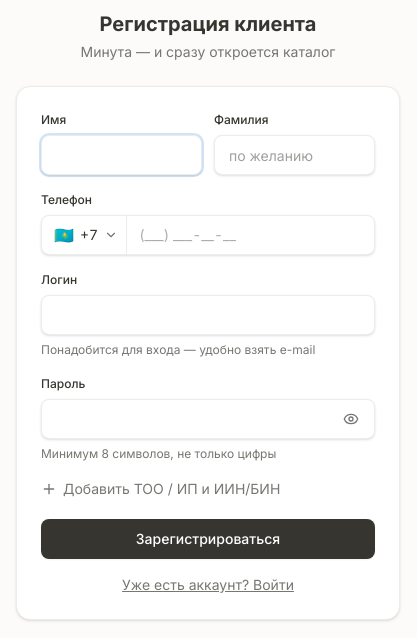
Test: RegisterPage › показывает ошибку сервера под нужным полем
This screenshot has width=417, height=638.
In the field labelled "Имя": (122, 155) 41,135 -> 202,175, type "Бахредин"
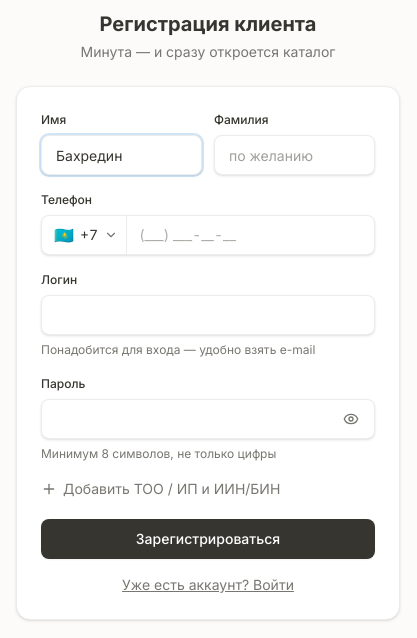
In the field labelled "Телефон": (251, 235) 127,216 -> 374,254, type "7055656565"
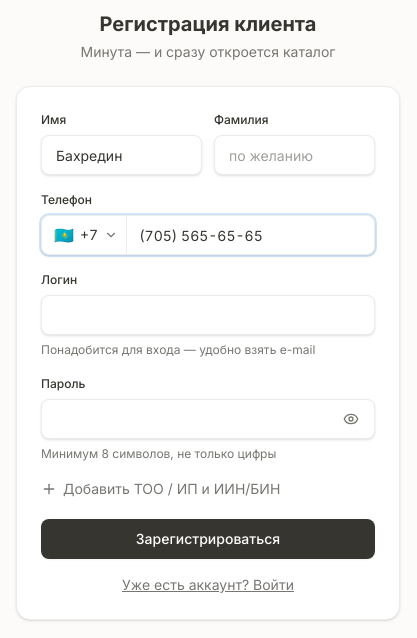
In the field labelled "Логин": (208, 315) 41,295 -> 375,335, type "baha@gmail.com"
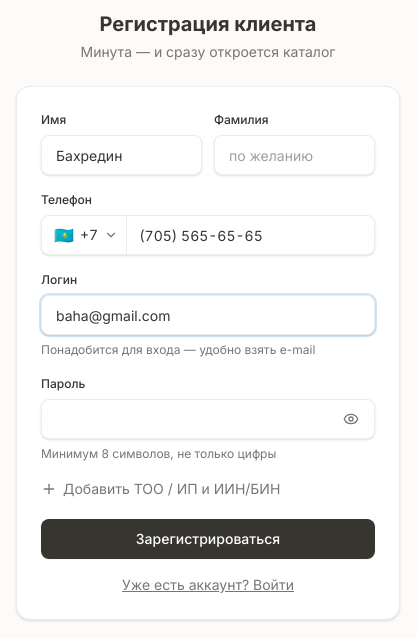
In the password field labelled "Пароль": (208, 419) 41,399 -> 375,439, type "strong-password"
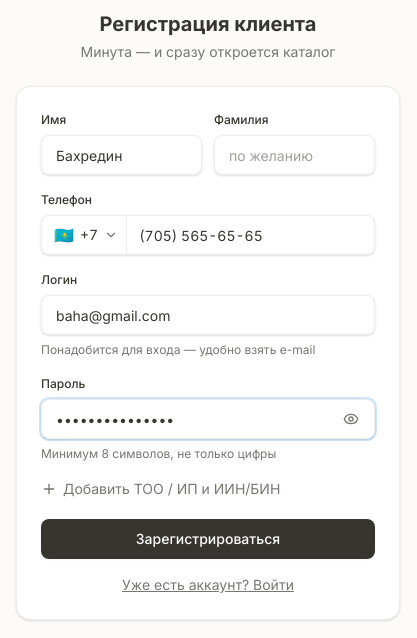
Click the button "Зарегистрироваться": click(208, 539) 41,519 -> 375,559
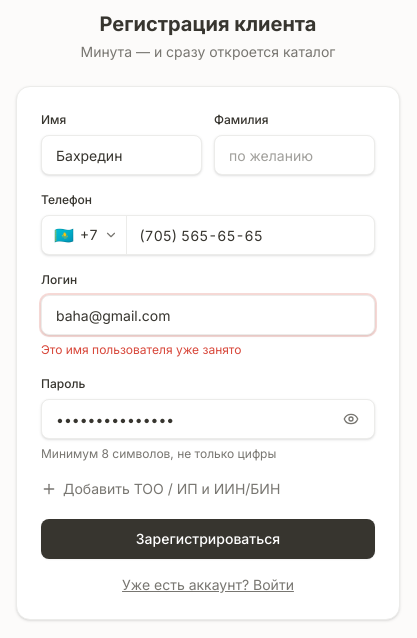
Result: the text "Это имя пользователя уже занято" is shown at 41,342 -> 241,357
